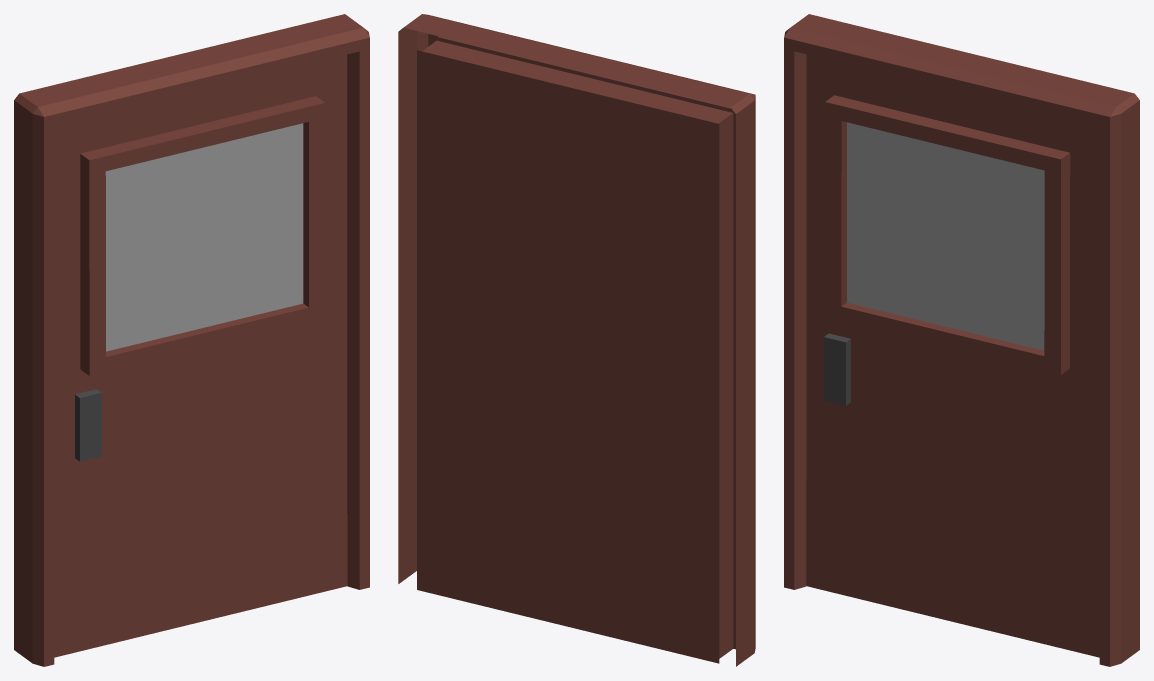
File: obj_door_r.fbx
3 views of the same model, side by side, from view 1: azimuth 30°, elevation 25°; view 2: azimuth 150°, elevation 25°; view 3: azimuth 330°, elevation 25° (orthographic).
Visible parts, largest first — view 1: obj_door_r; view 2: obj_door_r; view 3: obj_door_r.
Boxes of the visible parts, x1,y1,x2,y2 form: obj_door_r: [14, 14, 369, 666]; obj_door_r: [398, 14, 755, 666]; obj_door_r: [784, 14, 1139, 666].
Size of the model in its own units: 1.2 by 1.9 by 0.1731.
2 materials, 1 textured.
